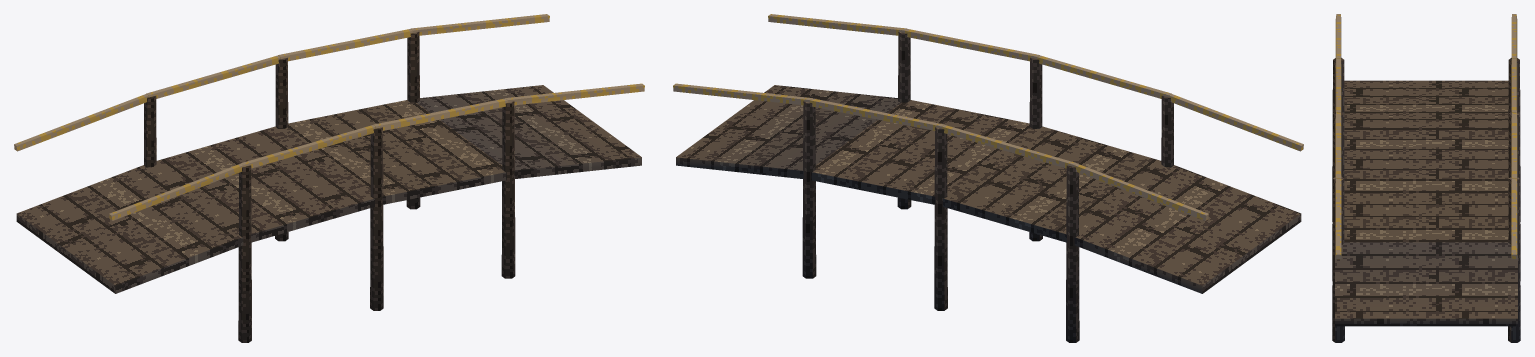
Rendered from vlg.bridge__timber.glb.
3 renders of one model, left to right at view 1: azimuth 30°, elevation 25°; view 2: azimuth 150°, elevation 25°; view 3: azimuth 270°, elevation 25°, orthographic. The views are drawn at different scales.
Parts seen in each view (by area): view 1: kit_deck, kit_rail; view 2: kit_deck, kit_rail; view 3: kit_deck, kit_rail.
Part boxes in pixels (x1,y1,x2,y2): kit_deck: [16, 85, 641, 293]; kit_rail: [14, 14, 644, 342]; kit_deck: [676, 85, 1301, 293]; kit_rail: [673, 14, 1303, 342]; kit_deck: [1335, 80, 1517, 326]; kit_rail: [1332, 14, 1520, 342].
Bounding box in the file's own units: 8.1 × 2.66 × 2.68.
3 materials, 3 textured.
